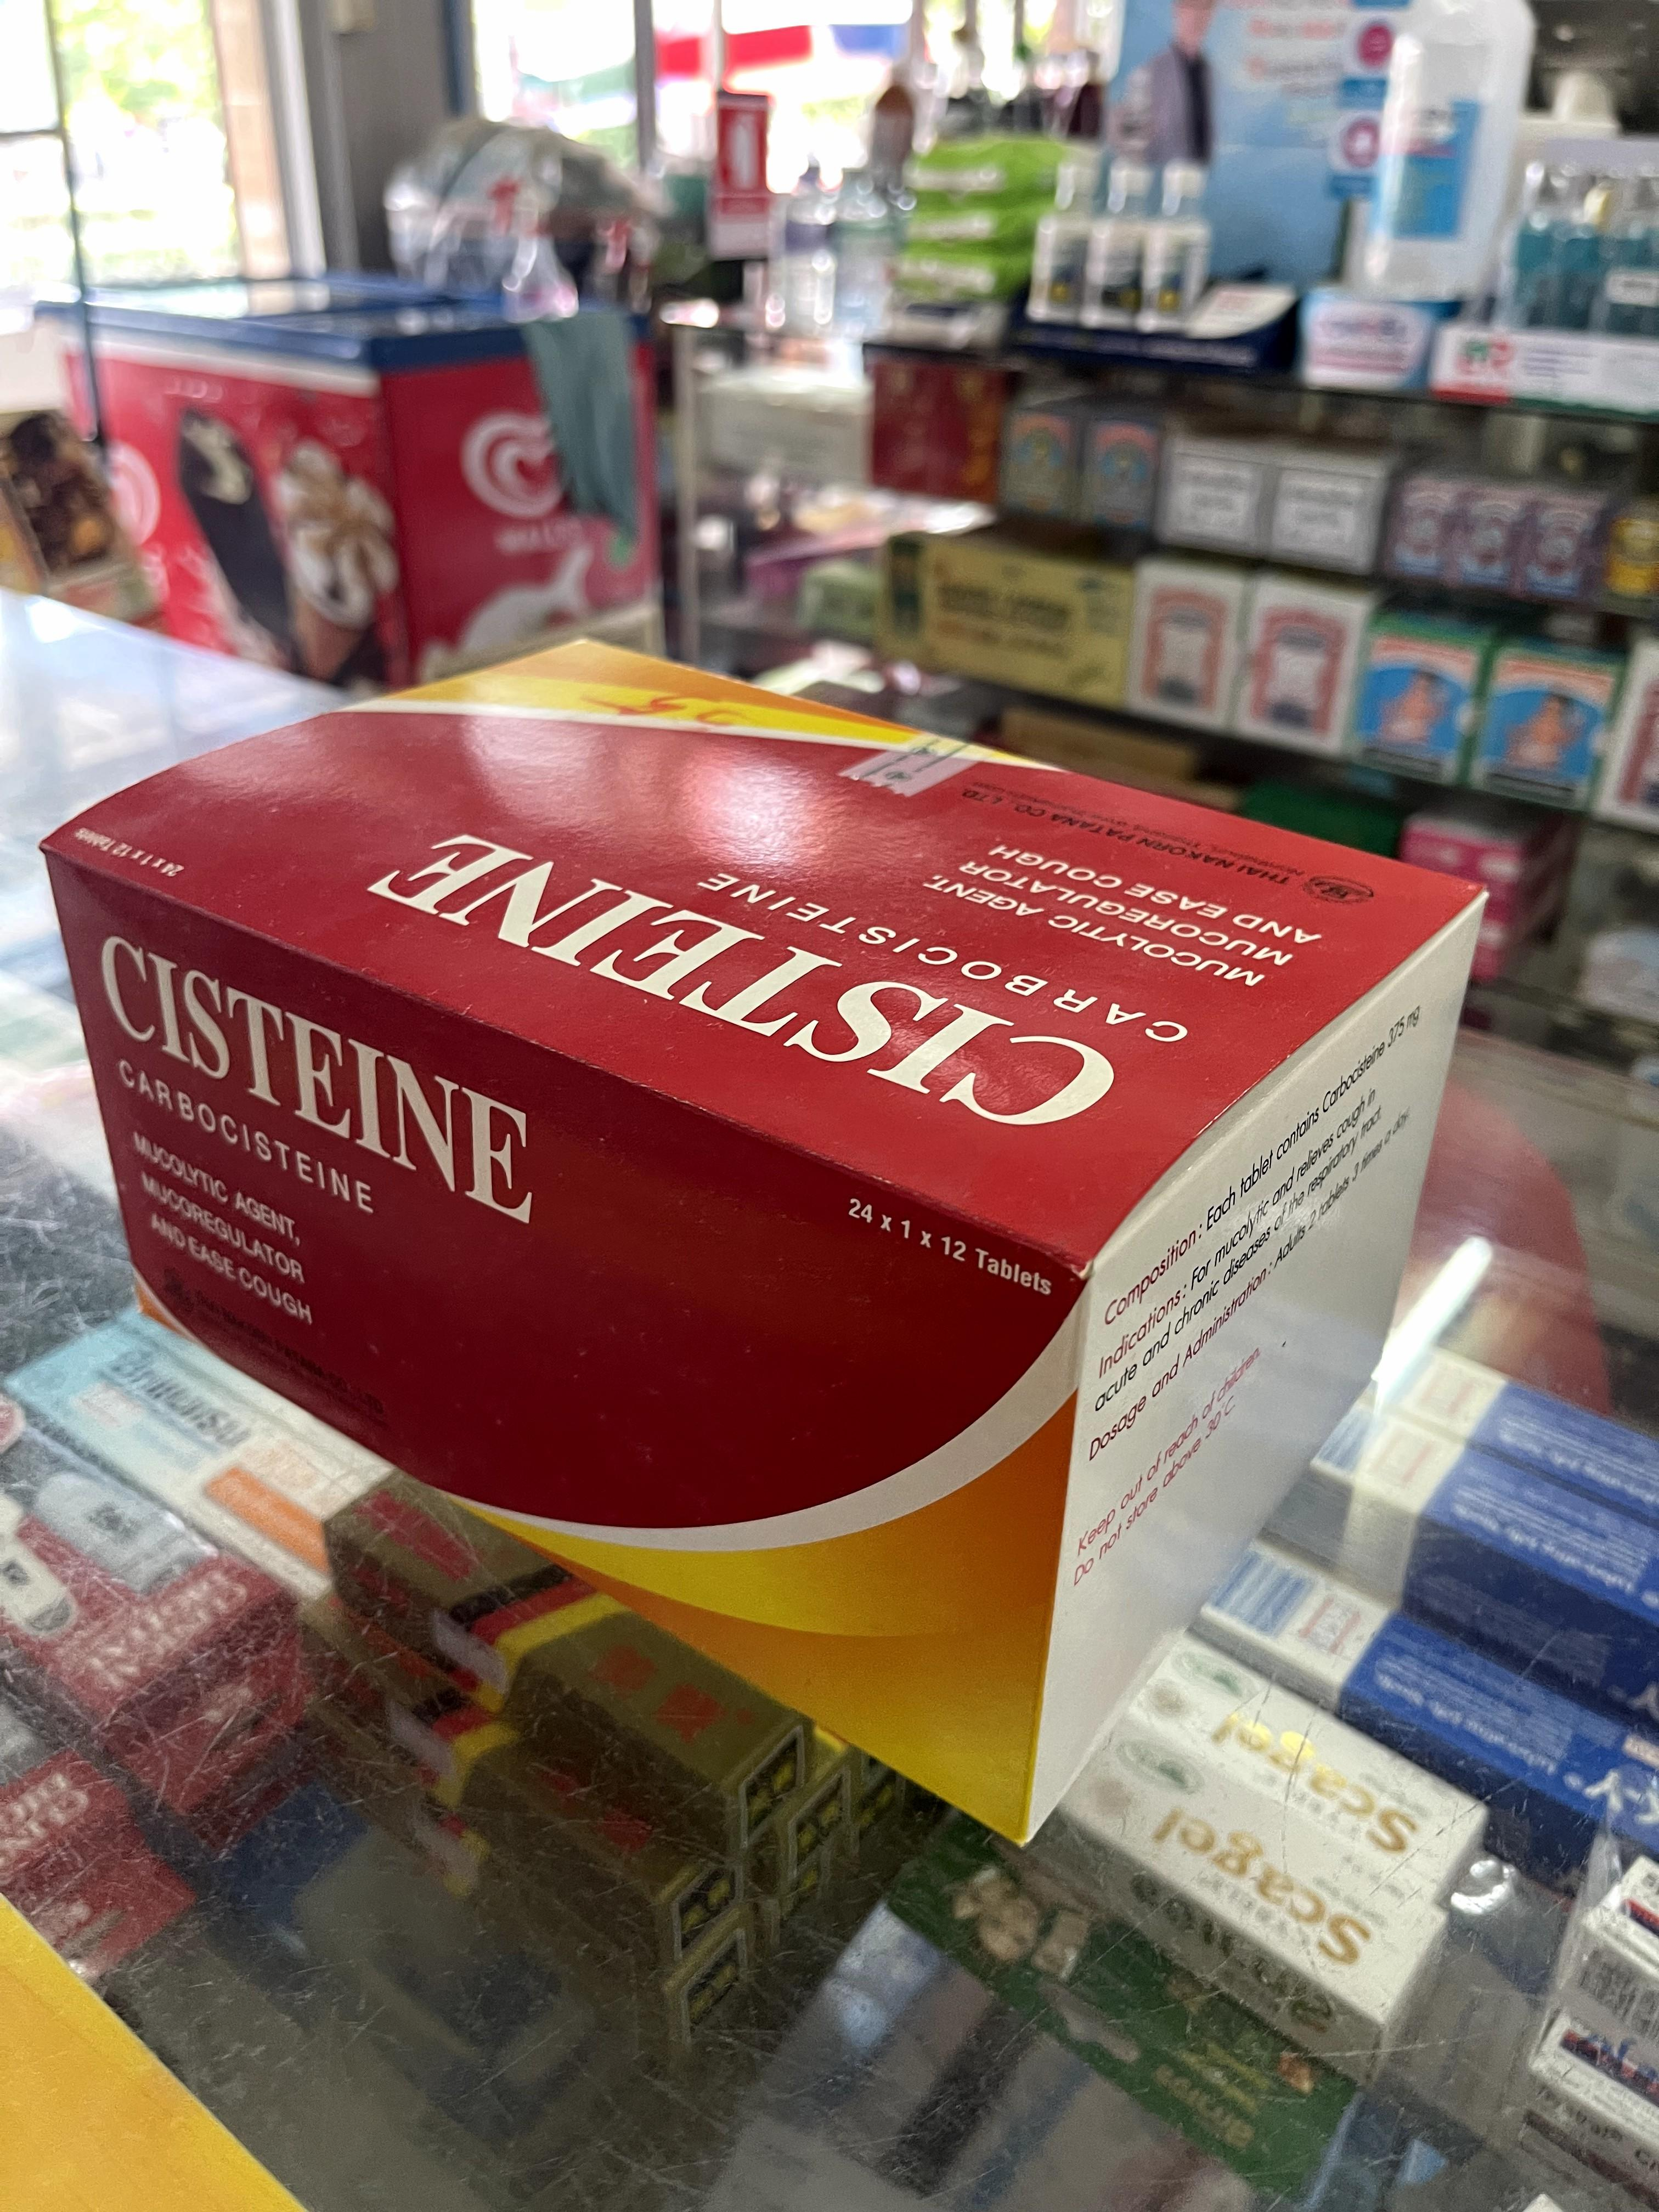Cisteine_Box: (47, 636, 1489, 1857)
